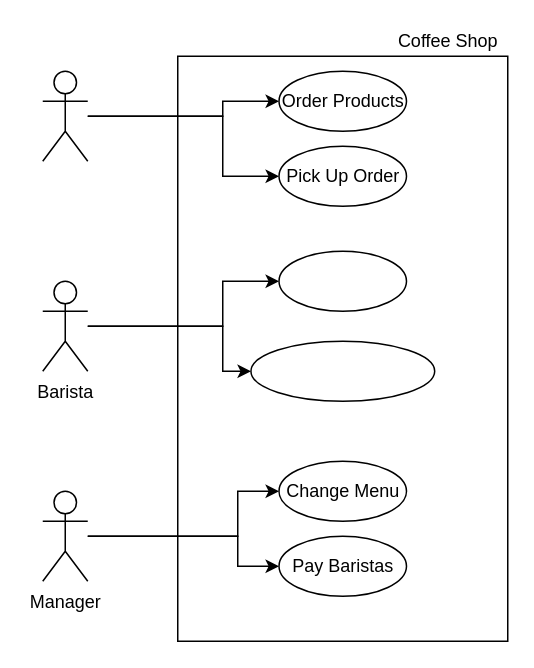
The diagram is 534 pixels wide and 668 high, and some of its shapes have lost their labels. Here are the shapes that lost their labels. From the top down, the centre of each, then its label:
pixel 64 115: Customer
pixel 342 280: Make Order
pixel 342 370: Serve
